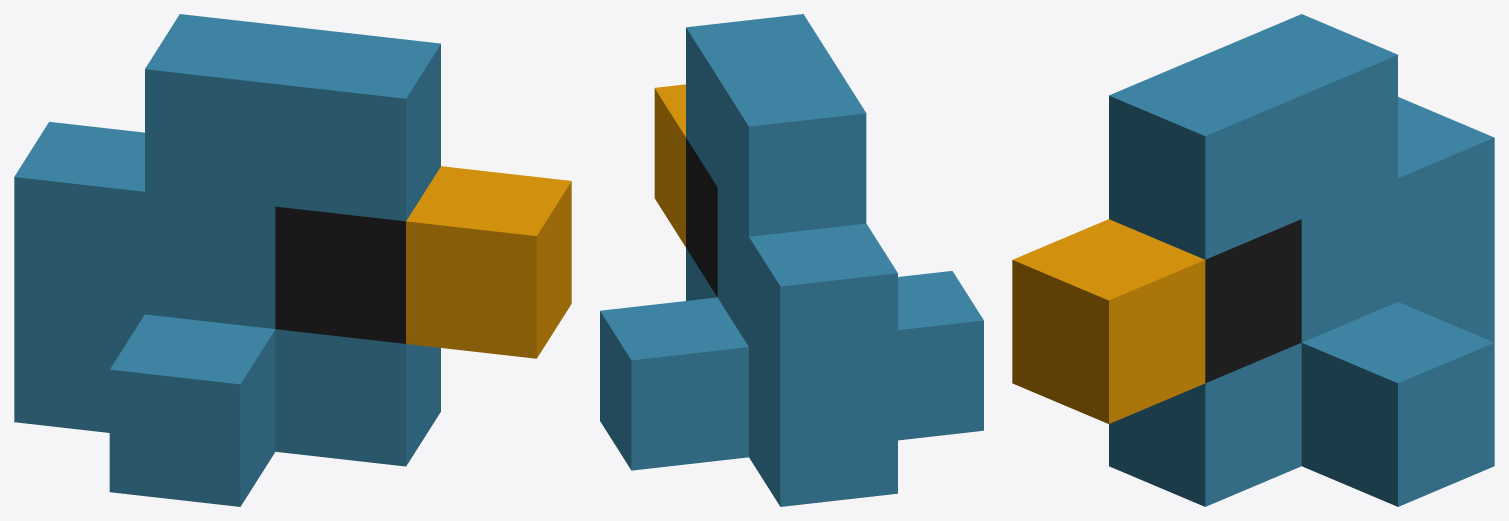
Rendered from medium_birb.glb.
3 renders of one model, left to right at view 1: azimuth 30°, elevation 25°; view 2: azimuth 150°, elevation 25°; view 3: azimuth 270°, elevation 25°, orthographic. The views are drawn at different scales.
Visible parts, largest first — view 1: pl0; view 2: pl0; view 3: pl0.
Part boxes in pixels (x1,y1,x2,y2): pl0: (14,14,571,506); pl0: (600,14,983,506); pl0: (1012,14,1494,506).
Size of the model in its own units: 0.3536 by 0.3 by 0.3536.
Materials: 1 (1 with a texture image).
